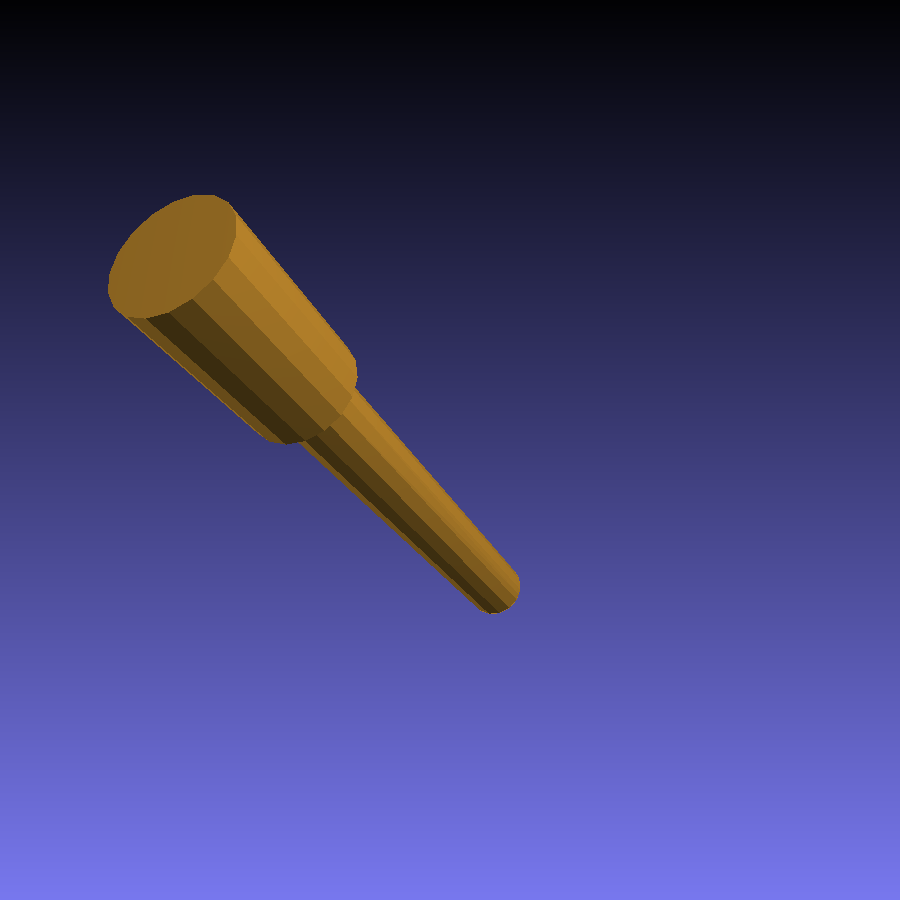cargo_g: (107, 195, 522, 615)
